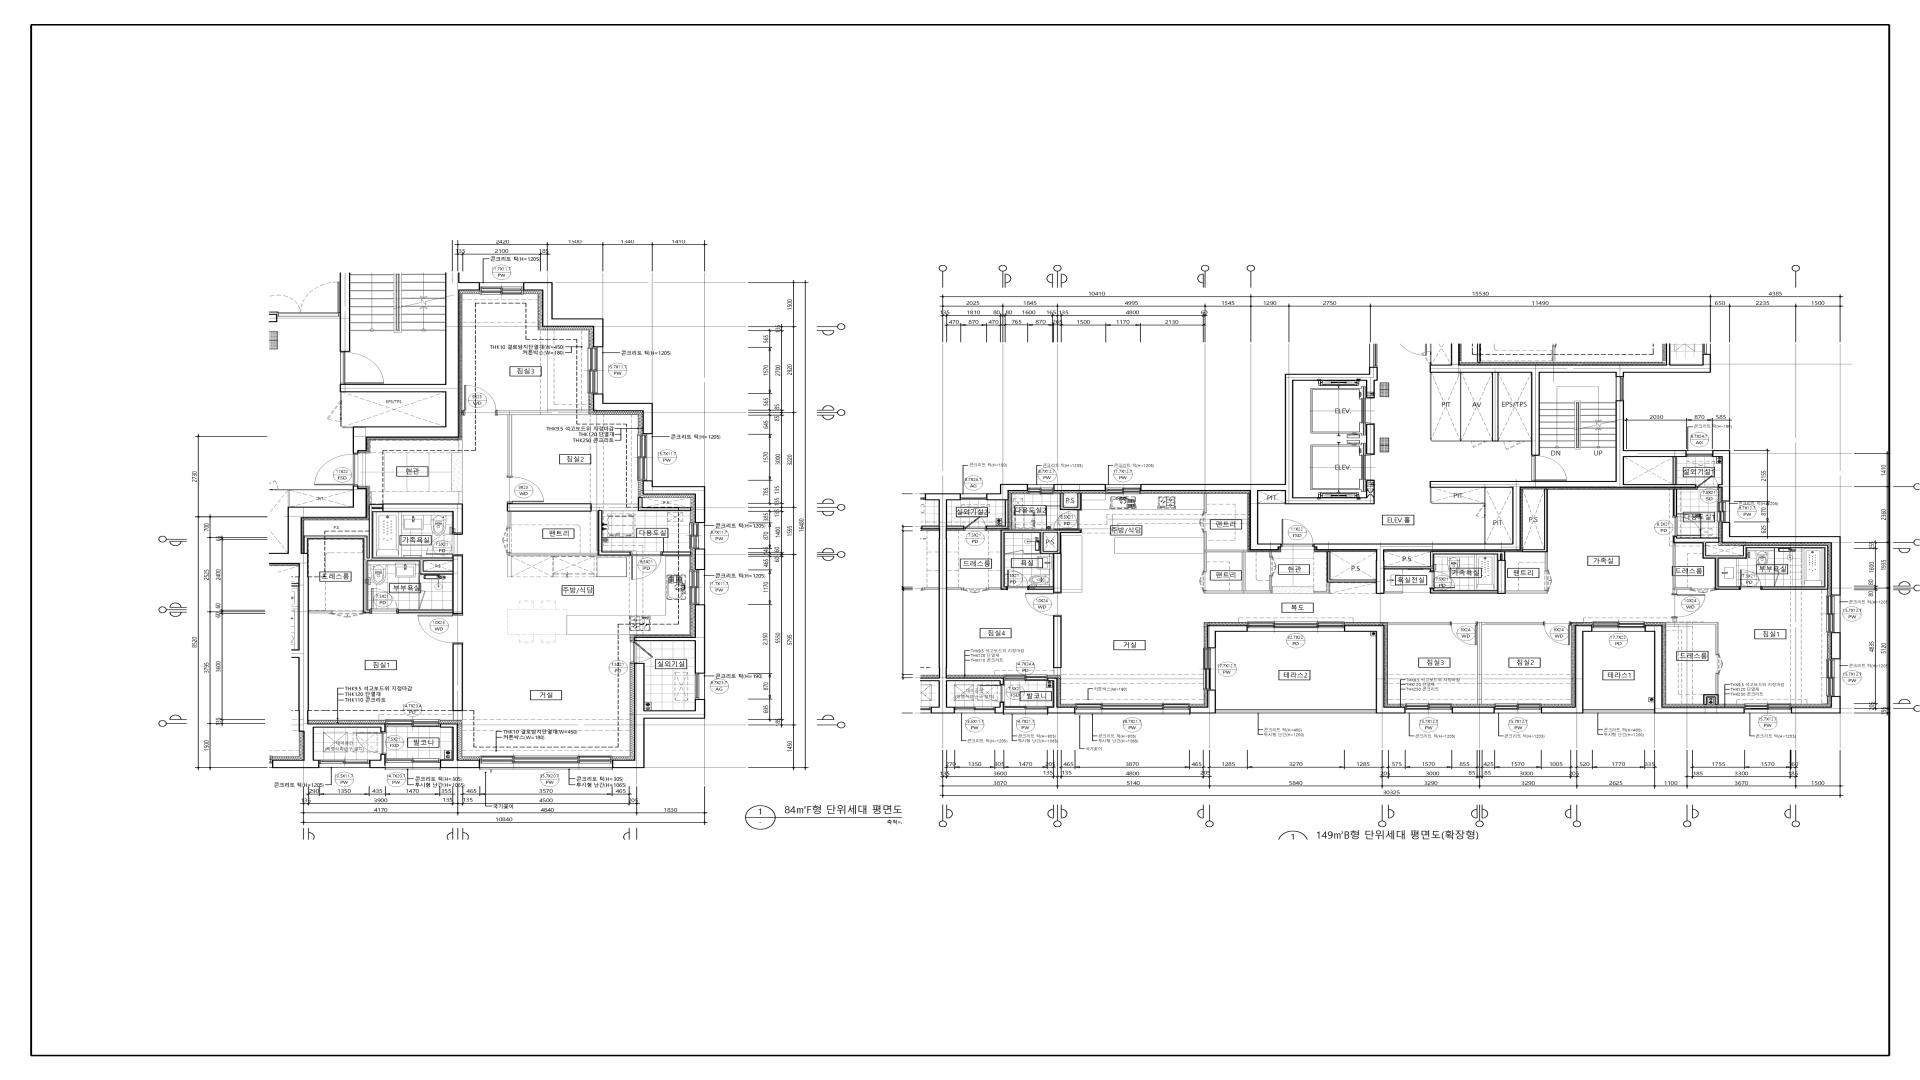door: (277, 282, 340, 316), (314, 454, 359, 485), (340, 352, 384, 384), (418, 615, 463, 644), (506, 476, 543, 504), (464, 385, 497, 415), (630, 551, 662, 580), (1532, 455, 1567, 481), (1282, 520, 1313, 547), (1025, 592, 1062, 616), (1672, 595, 1705, 618), (426, 534, 463, 555), (371, 588, 398, 615), (355, 732, 385, 754), (1451, 621, 1477, 645), (1543, 622, 1571, 645), (1672, 517, 1701, 537), (1054, 510, 1081, 530), (630, 641, 653, 663), (1006, 570, 1030, 591), (1429, 571, 1456, 589), (1739, 570, 1762, 591), (980, 684, 1005, 703), (964, 516, 986, 531), (1697, 475, 1718, 491), (327, 401, 342, 422), (501, 527, 512, 553), (331, 611, 363, 618), (961, 587, 988, 593), (1503, 442, 1524, 450), (1691, 587, 1716, 593), (1716, 654, 1724, 674), (1544, 571, 1552, 591), (1269, 558, 1276, 576), (1199, 572, 1207, 591), (1476, 504, 1485, 518), (1422, 352, 1431, 365), (1200, 513, 1207, 531), (419, 591, 426, 609), (1774, 571, 1780, 587), (269, 480, 278, 491), (1472, 442, 1486, 447), (1005, 550, 1023, 554)
wall: (1313, 401, 1697, 595), (1141, 367, 1378, 550), (287, 485, 385, 769), (1429, 365, 1712, 455), (340, 273, 480, 454), (303, 504, 452, 613), (612, 663, 705, 769), (1672, 537, 1828, 595), (1644, 625, 1745, 713), (1722, 522, 1841, 596), (1385, 551, 1548, 593), (1431, 373, 1531, 442), (497, 410, 588, 476), (988, 530, 1083, 592), (1477, 622, 1543, 704), (1345, 625, 1406, 713), (938, 493, 961, 713), (524, 282, 604, 347), (634, 605, 705, 674), (1542, 625, 1592, 713), (1204, 531, 1273, 593), (398, 555, 463, 615), (382, 492, 463, 534), (506, 504, 638, 527), (1431, 488, 1486, 543), (642, 480, 705, 524), (1313, 551, 1377, 593), (593, 394, 653, 434), (508, 553, 597, 578), (1522, 489, 1548, 571), (1667, 618, 1718, 654), (440, 724, 480, 769), (597, 510, 630, 556), (278, 489, 353, 506), (1047, 678, 1075, 713), (1208, 625, 1247, 649), (1713, 450, 1730, 501), (1791, 696, 1841, 713), (340, 273, 351, 352), (452, 644, 463, 720), (638, 497, 691, 512), (986, 484, 1029, 500), (986, 500, 1009, 529), (1189, 690, 1216, 713), (1054, 616, 1062, 675), (1704, 674, 1718, 705), (1060, 493, 1081, 510), (1054, 484, 1106, 491), (1366, 423, 1375, 455), (1040, 533, 1054, 554), (1452, 707, 1494, 713), (1830, 633, 1841, 659), (369, 754, 385, 769), (695, 549, 705, 570), (1389, 622, 1451, 625), (662, 551, 691, 555), (1673, 489, 1677, 517), (994, 702, 1004, 713), (1673, 458, 1677, 484), (340, 422, 353, 429), (269, 314, 277, 322), (309, 611, 331, 613), (1204, 493, 1207, 513), (1385, 591, 1403, 593), (459, 440, 463, 452), (947, 587, 961, 589), (1258, 502, 1284, 504), (1431, 344, 1432, 365), (462, 410, 464, 415), (340, 393, 342, 401), (1023, 554, 1039, 554)
window: (480, 756, 612, 770), (1075, 704, 1189, 715), (1247, 622, 1345, 632), (588, 347, 604, 394), (637, 434, 653, 480), (385, 758, 440, 770), (1216, 709, 1375, 713), (690, 570, 705, 605), (1826, 595, 1841, 633), (1203, 649, 1216, 690), (1826, 659, 1841, 696), (480, 282, 524, 294), (1592, 622, 1644, 632), (1494, 704, 1542, 713), (385, 720, 440, 728), (1406, 704, 1452, 713), (1745, 704, 1791, 713), (1004, 705, 1047, 715), (319, 760, 369, 767), (690, 524, 705, 549), (1106, 484, 1141, 495), (1584, 709, 1655, 713), (1029, 484, 1054, 495), (695, 674, 705, 699), (955, 707, 994, 713), (1718, 501, 1730, 522), (1004, 675, 1047, 680), (1615, 377, 1623, 401), (1687, 450, 1713, 456), (961, 493, 986, 500)
